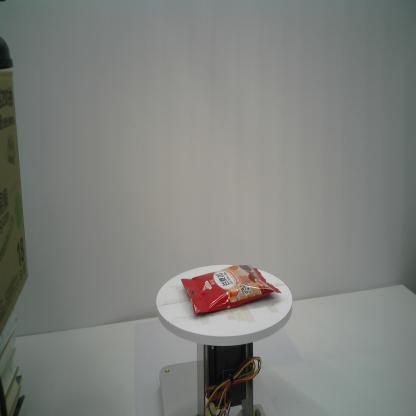Instant Drink: (180, 263, 282, 316)
